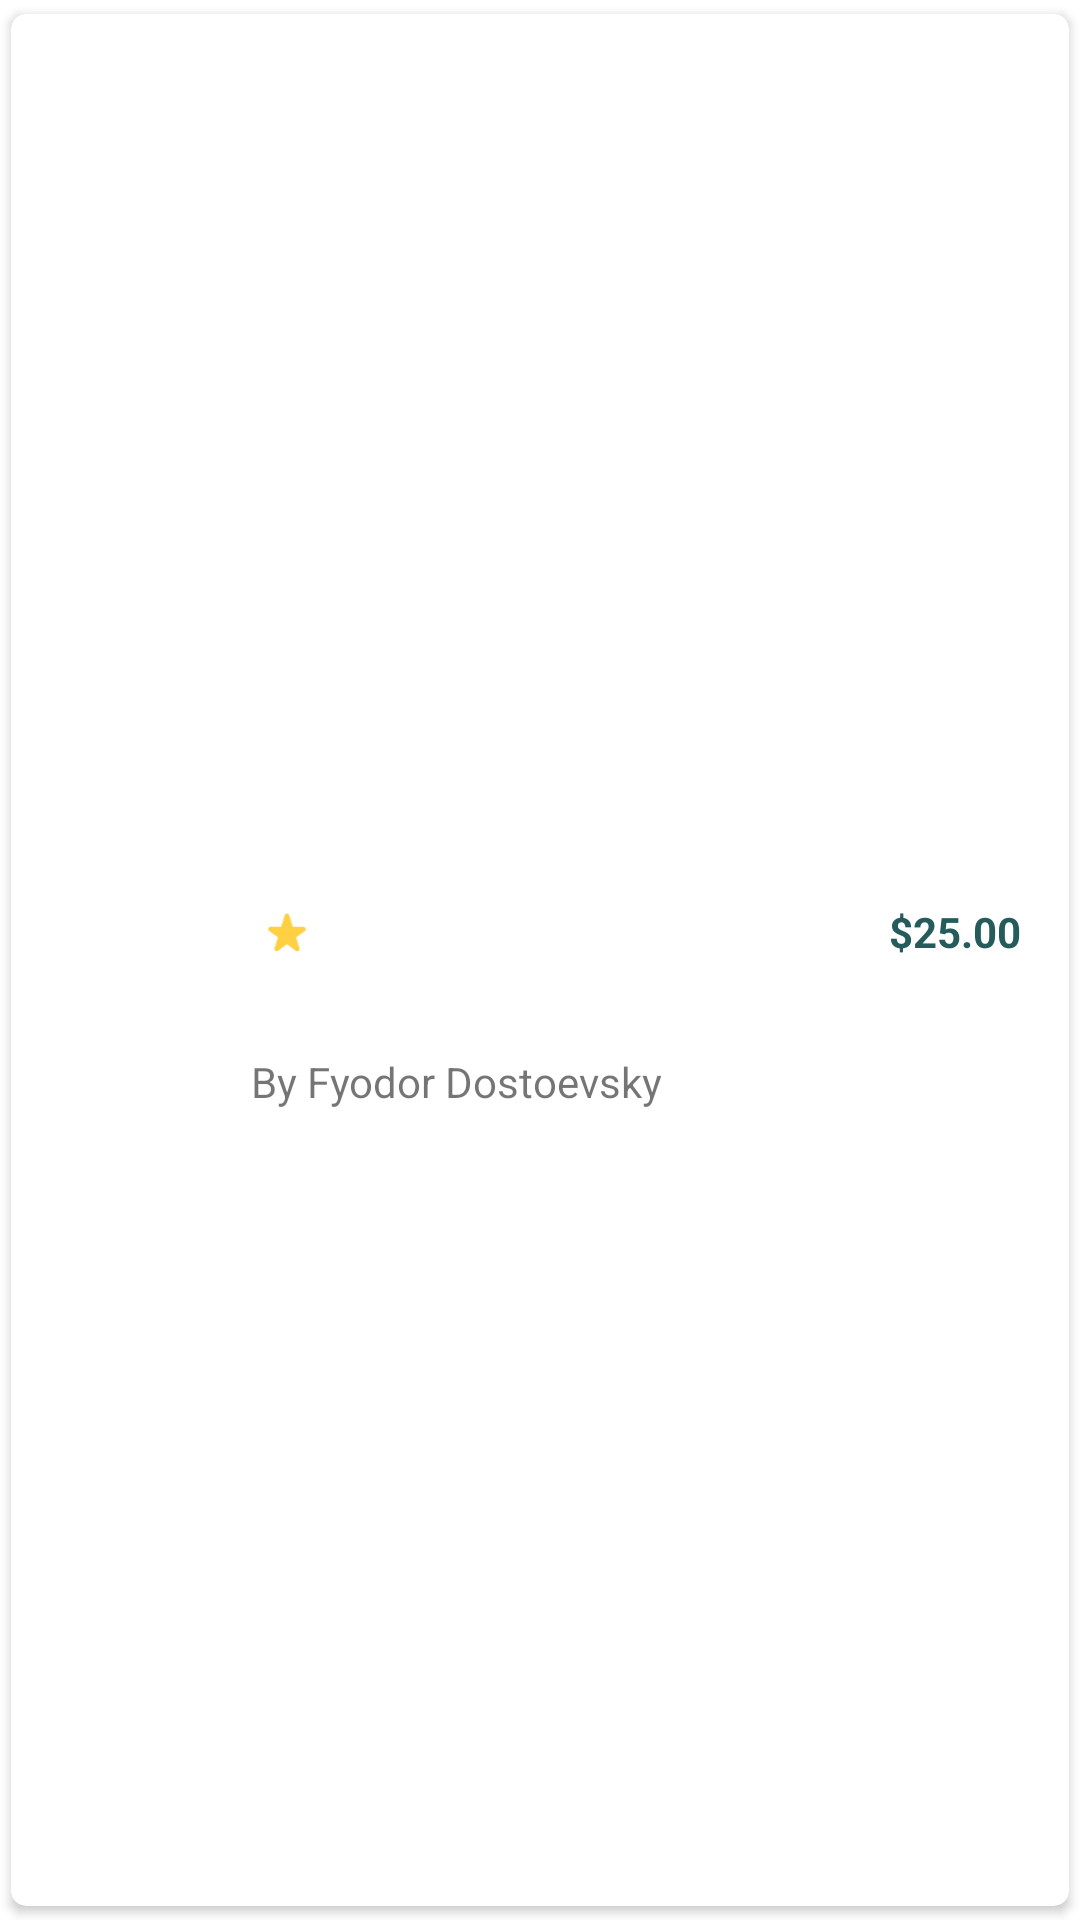

Icons on this 1080px×1920px Android screen, each with the point to tap as point (x, y):
star rate: point (287, 932)
